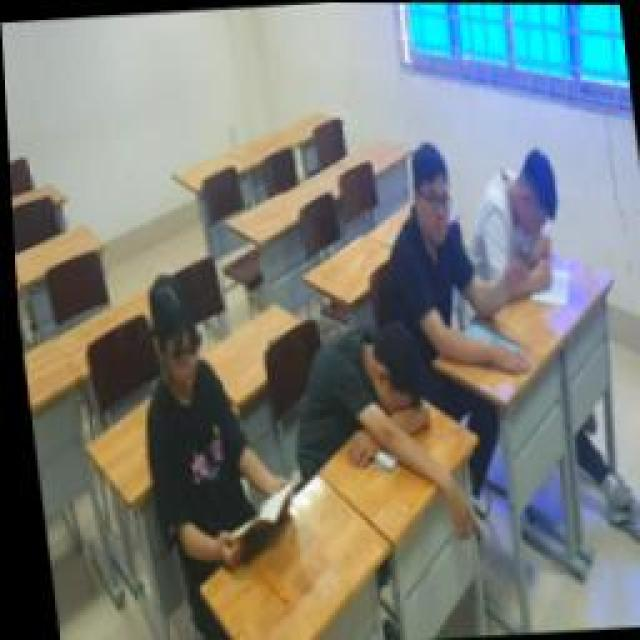sleep: (280, 318, 475, 550)
study: (118, 267, 298, 575), (363, 138, 535, 382), (460, 142, 570, 310)
